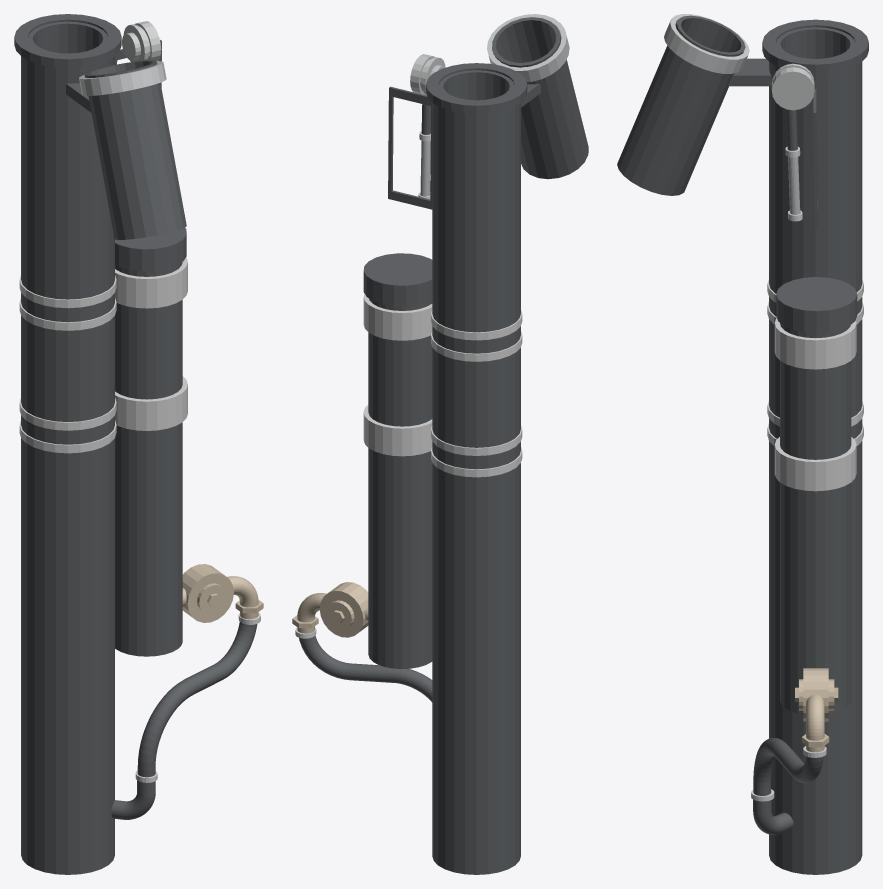
The model's file is mini-shooter.glb.
3 renders of one model, left to right at view 1: azimuth 30°, elevation 25°; view 2: azimuth 150°, elevation 25°; view 3: azimuth 270°, elevation 25°, orthographic. The views are drawn at different scales.
Parts seen in each view (by area): view 1: Mesh_Mesh_head_geo.001_lambert2SG.001; view 2: Mesh_Mesh_head_geo.001_lambert2SG.001; view 3: Mesh_Mesh_head_geo.001_lambert2SG.001.
Boxes of the visible parts, x1,y1,x2,y2 form: Mesh_Mesh_head_geo.001_lambert2SG.001: [14, 14, 263, 874]; Mesh_Mesh_head_geo.001_lambert2SG.001: [292, 14, 588, 874]; Mesh_Mesh_head_geo.001_lambert2SG.001: [617, 14, 868, 874].
Size of the model in its own units: 74.36 by 250 by 68.47.
